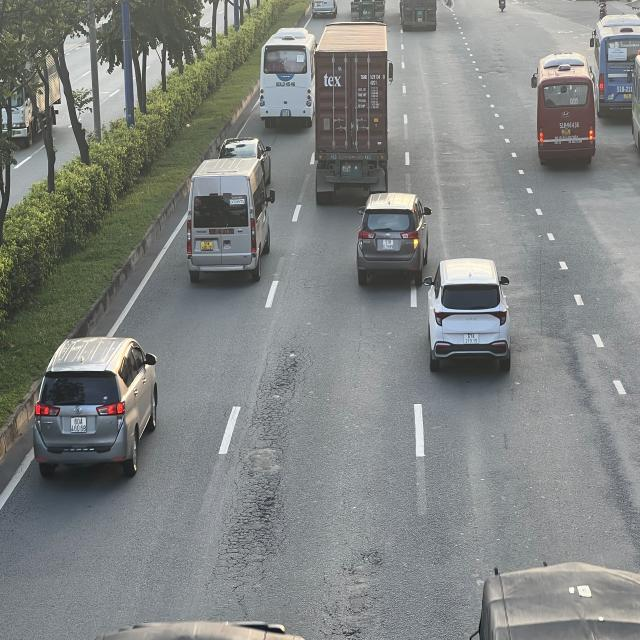car: (30, 332, 159, 475), (429, 257, 513, 373), (354, 192, 429, 285)
coach: (533, 53, 596, 164), (260, 28, 315, 128), (592, 16, 637, 120)
container: (315, 18, 395, 200)
van: (188, 160, 275, 284)
